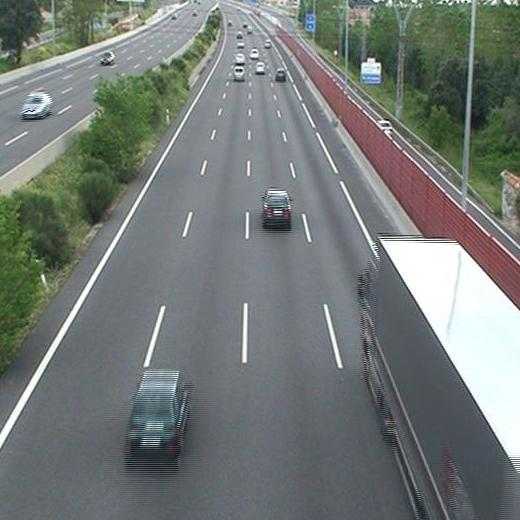car: (129, 371, 187, 450), (263, 191, 291, 222), (275, 69, 287, 80), (234, 68, 245, 80), (234, 53, 245, 64), (255, 63, 266, 73), (249, 49, 258, 57)
truck: (363, 238, 519, 520)
